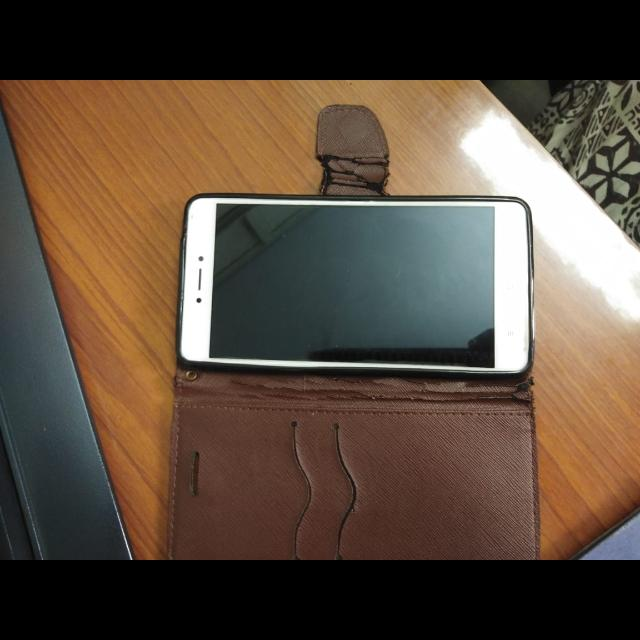Smartphone: (164, 184, 546, 390)
